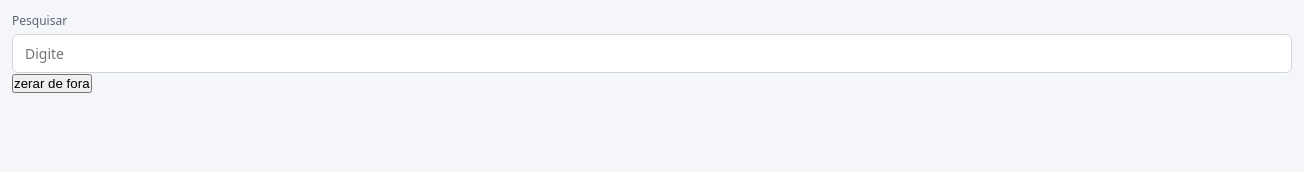
Test: CampoPesquisa › "Limpar pesquisa" só aparece com texto, apaga o campo e aplica o vazio na hora
Expected: the button "Limpar pesquisa" is not shown
Type "owens" into the field named "Pesquisar". click: (652, 54)
box: [12,34,1292,73]
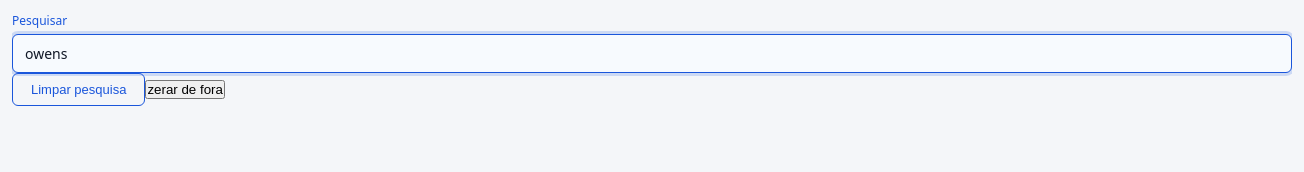
Click the button "Limpar pesquisa". click: (79, 90)
box: [12,73,145,106]
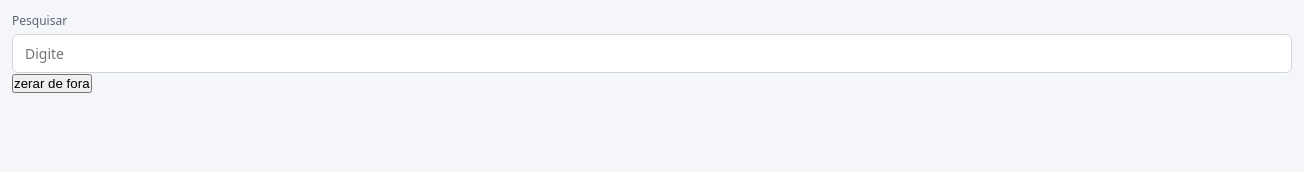
Now the field named "Pesquisar" is empty, box [12,34,1292,73]
Now the button "Limpar pesquisa" is gone
